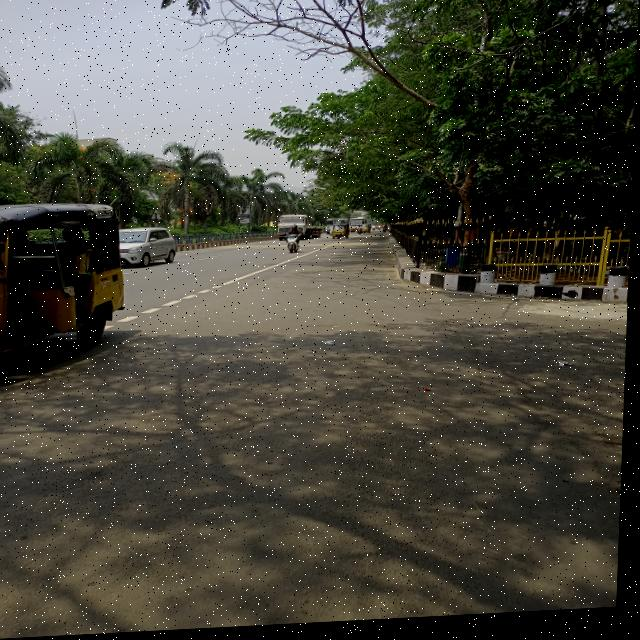bike: (286, 238, 304, 255)
car: (119, 223, 193, 277)
